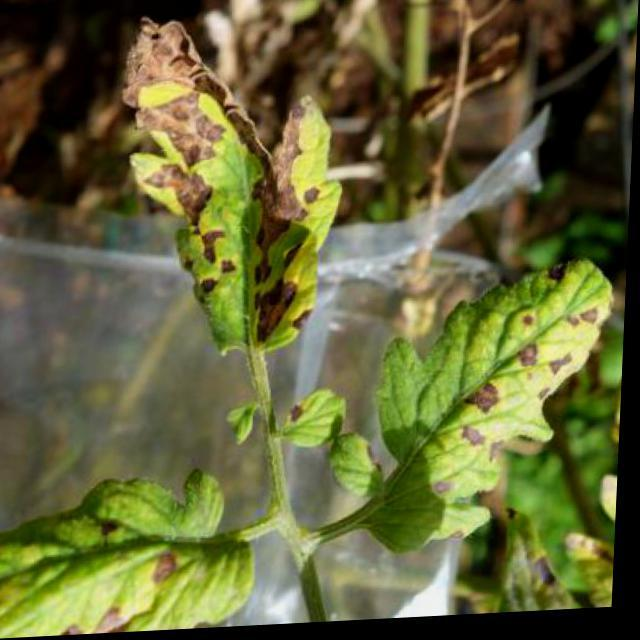Tomato Septoria spot leaf: (100, 0, 350, 373), (336, 254, 628, 567), (0, 465, 277, 639)
